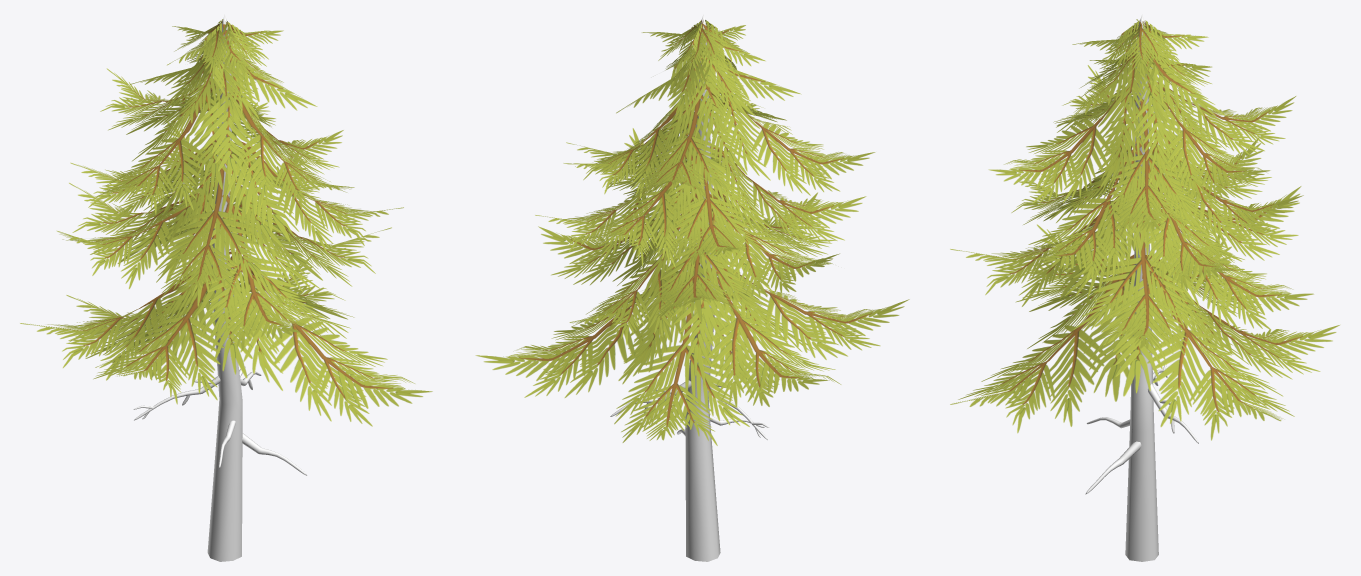
Rendered from pine_tree_1.glb.
The picture shows the model from 3 angles, left to right: view 1: azimuth 30°, elevation 25°; view 2: azimuth 150°, elevation 25°; view 3: azimuth 270°, elevation 25°; orthographic projection.
Parts seen in each view (by area): view 1: PineTree_1.001; view 2: PineTree_1.001; view 3: PineTree_1.001.
Part boxes in pixels (x1,y1,x2,y2): PineTree_1.001: (20, 14, 432, 561); PineTree_1.001: (475, 14, 909, 561); PineTree_1.001: (950, 14, 1339, 561).
Bounding box in the file's own units: 2.98 × 4.5 × 3.03.
Materials: 2 (1 with a texture image).
